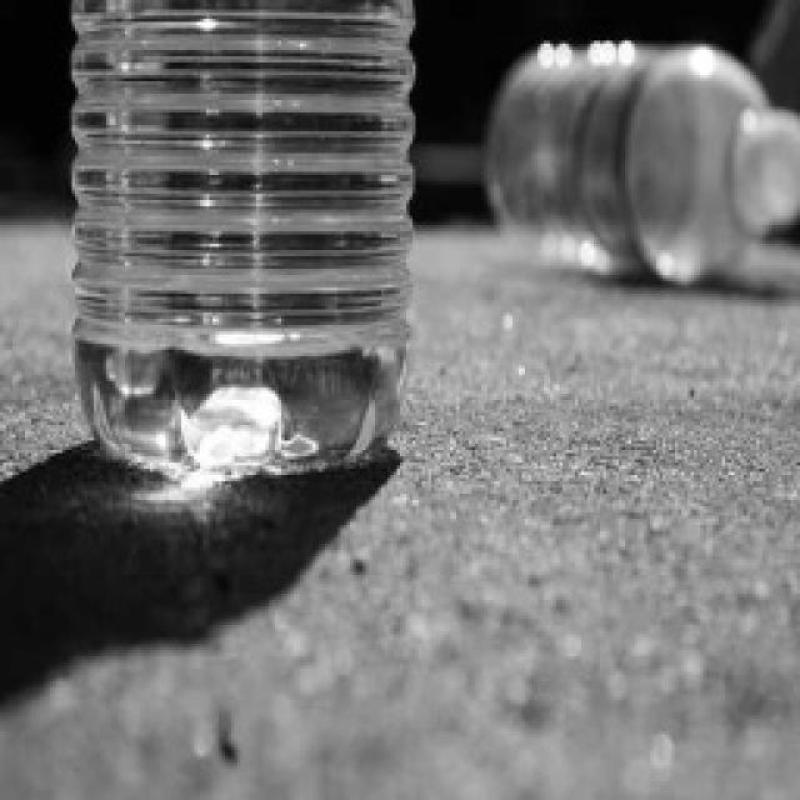botella: (67, 0, 417, 472), (489, 39, 799, 280)
